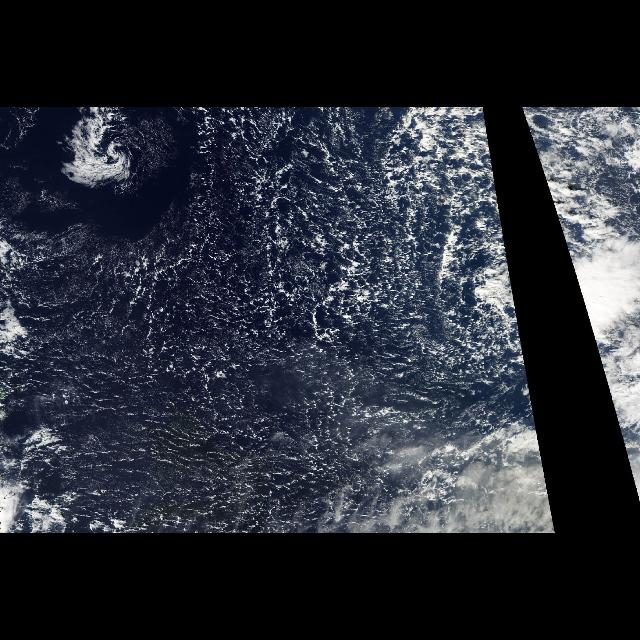Gravel: (1, 107, 536, 533), (522, 108, 640, 422)
Sugar: (29, 202, 368, 524)
